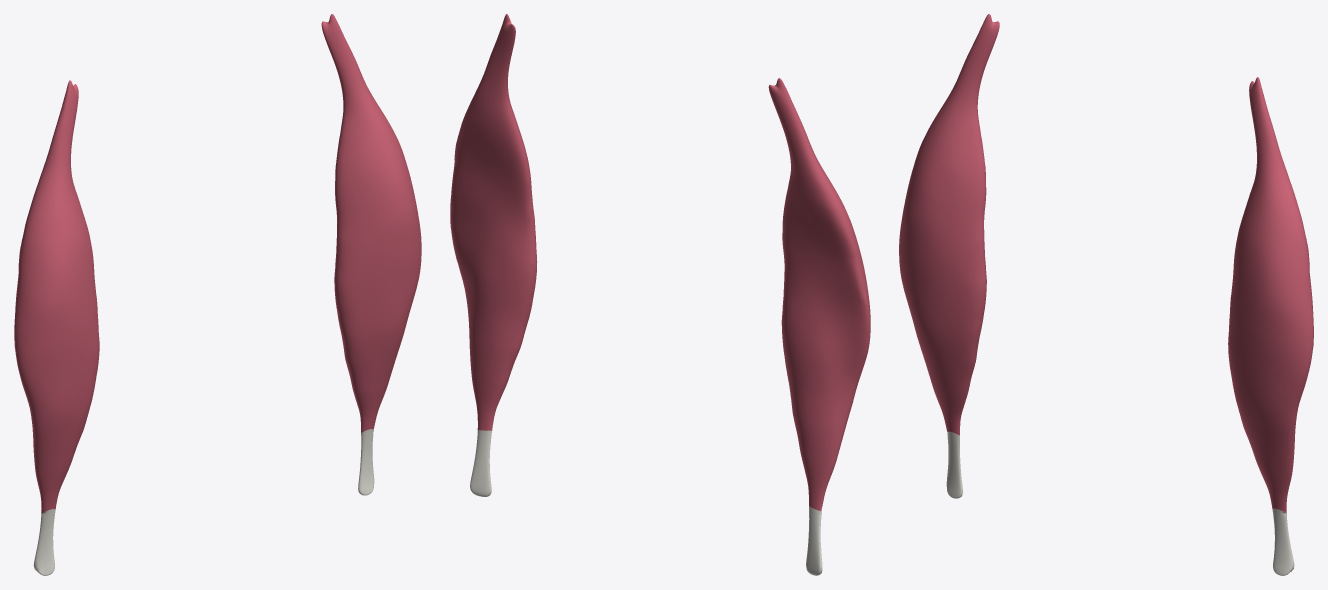
File: muscular.glb
3 renders of one model, left to right at view 1: azimuth 30°, elevation 25°; view 2: azimuth 150°, elevation 25°; view 3: azimuth 330°, elevation 25°, orthographic. The views are drawn at different scales.
Parts seen in each view (by area): view 1: f-left-rectus-femoris, f-right-rectus-femoris, tendon-of-right-quadriceps-femoris, tendon-of-left-quadriceps-femoris; view 2: f-right-rectus-femoris, f-left-rectus-femoris, tendon-of-left-quadriceps-femoris, tendon-of-right-quadriceps-femoris; view 3: f-right-rectus-femoris, f-left-rectus-femoris, tendon-of-left-quadriceps-femoris, tendon-of-right-quadriceps-femoris.
Boxes of the visible parts, x1,y1,x2,y2 form: f-left-rectus-femoris: (321,14,421,432); f-right-rectus-femoris: (14,80,99,513); tendon-of-right-quadriceps-femoris: (33,509,55,575); tendon-of-left-quadriceps-femoris: (358,429,374,495); f-right-rectus-femoris: (768,78,870,511); f-left-rectus-femoris: (450,14,537,430); tendon-of-left-quadriceps-femoris: (470,430,492,496); tendon-of-right-quadriceps-femoris: (806,506,822,575); f-right-rectus-femoris: (899,14,999,435); f-left-rectus-femoris: (1228,77,1313,513); tendon-of-left-quadriceps-femoris: (1272,508,1294,575); tendon-of-right-quadriceps-femoris: (946,431,962,498).
Size of the model in its own units: 0.3555 by 0.4034 by 0.0508.
